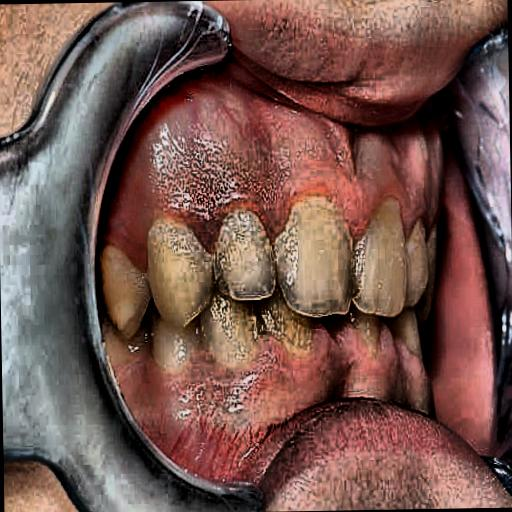Calculus: (72, 180, 425, 370)
